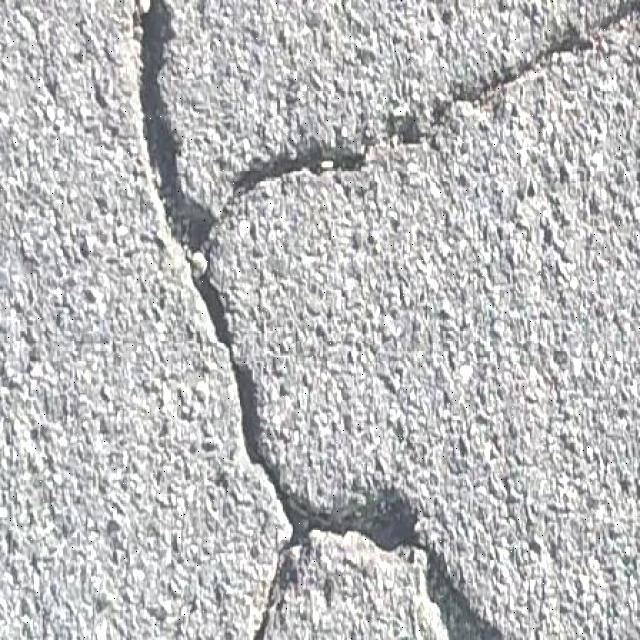Crack: (133, 0, 640, 639)
